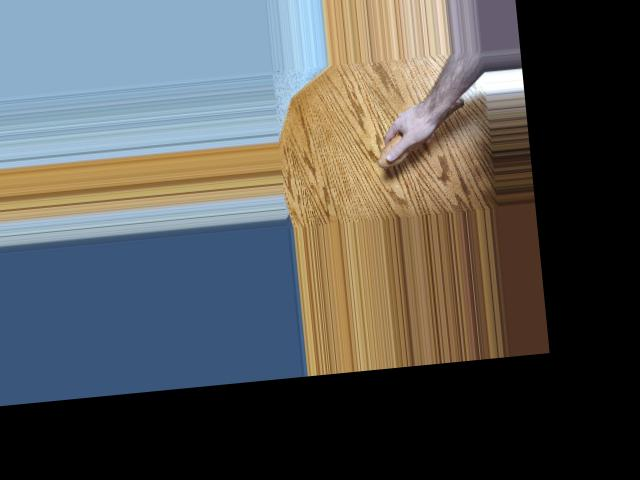sweet_potato: (370, 98, 471, 171)
